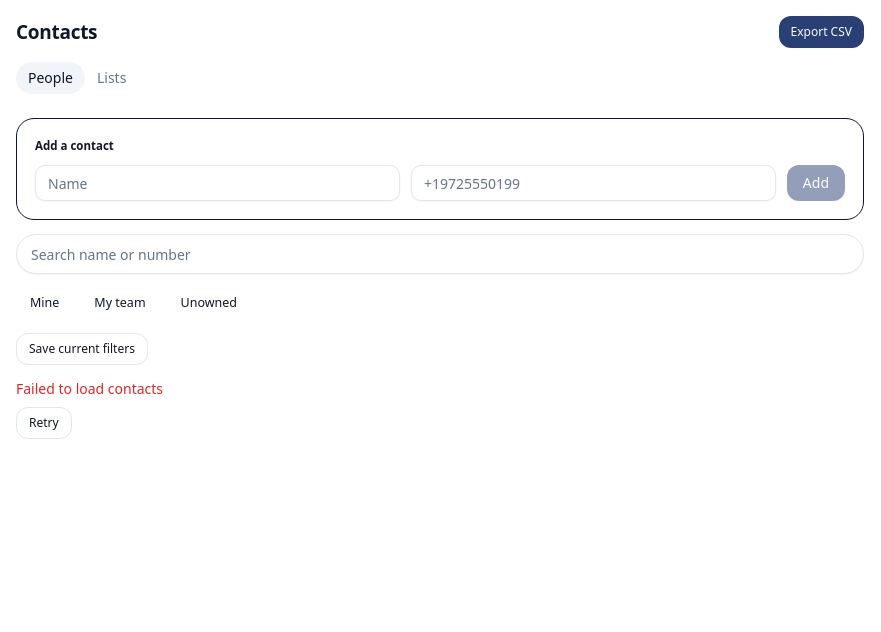
it: ContactsPage › shows a list error and recovers via Retry
Expected: the message reads "Failed to load contacts", [16,379,163,398]
What coordinates should you click on to do the following:
click the button "Retry"
I would click on:
 (44, 423)
Its box is [16,407,72,439].
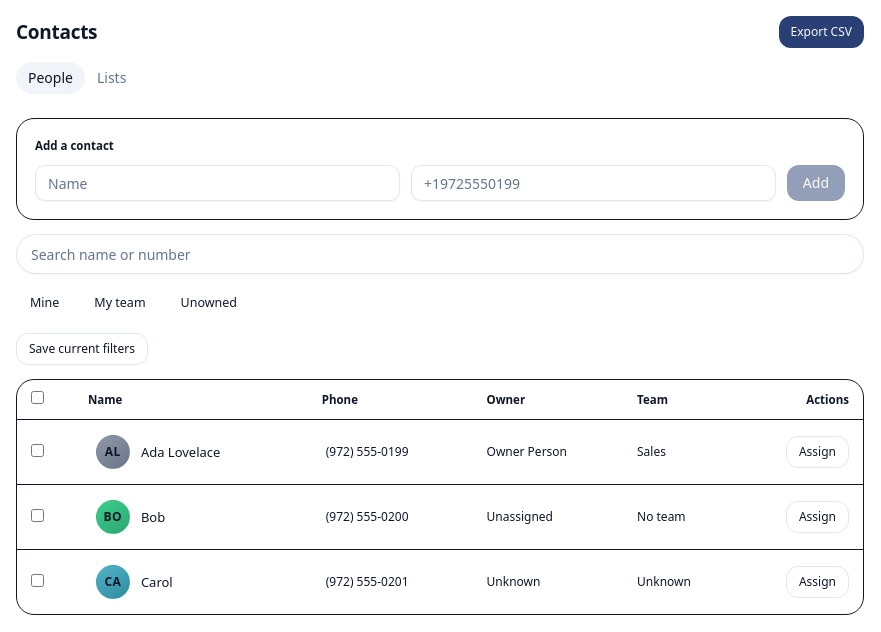
Result: the button "AL Ada Lovelace" is shown at [88,431,228,473]
Result: the message "Failed to load contacts" is gone
